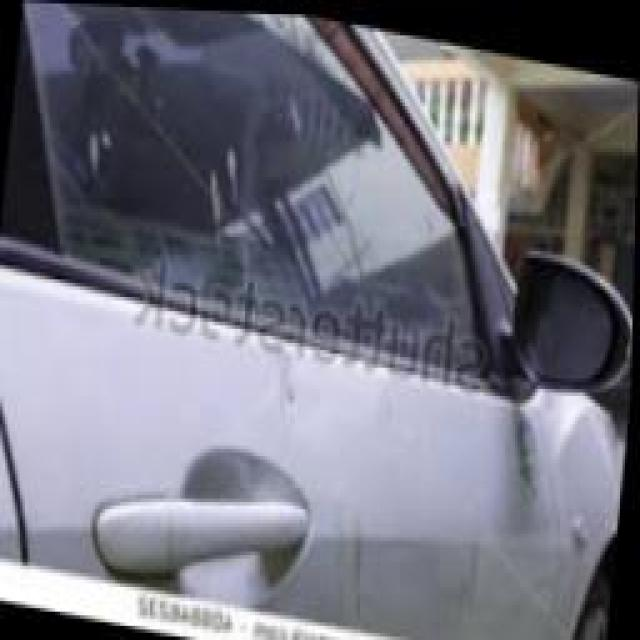Door: (25, 308, 554, 638)
